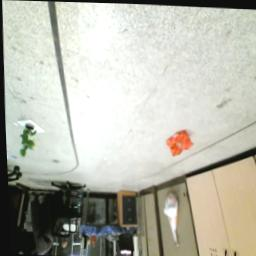herb: (18, 125, 38, 160)
wild: (165, 129, 195, 159)
